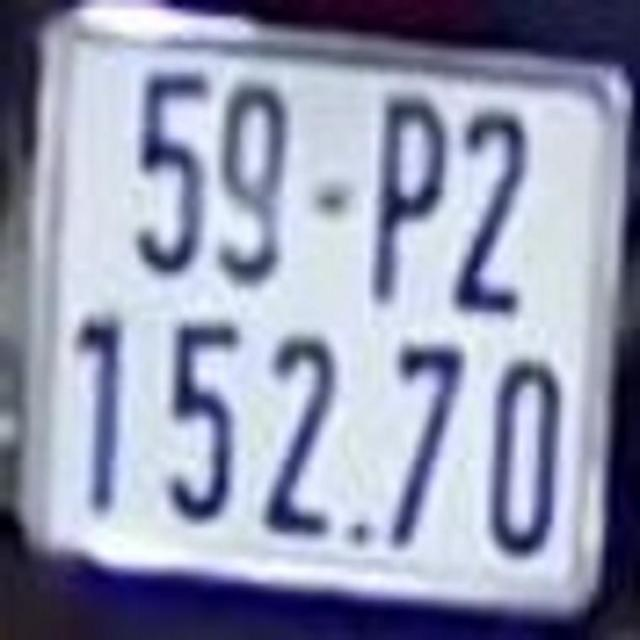0: (485, 354, 563, 562)
1: (68, 296, 120, 509)
2: (457, 100, 530, 319), (261, 331, 337, 535)
5: (133, 64, 208, 272), (168, 314, 236, 520)
7: (390, 335, 469, 555)
9: (215, 64, 284, 281)
P: (374, 84, 445, 310)
